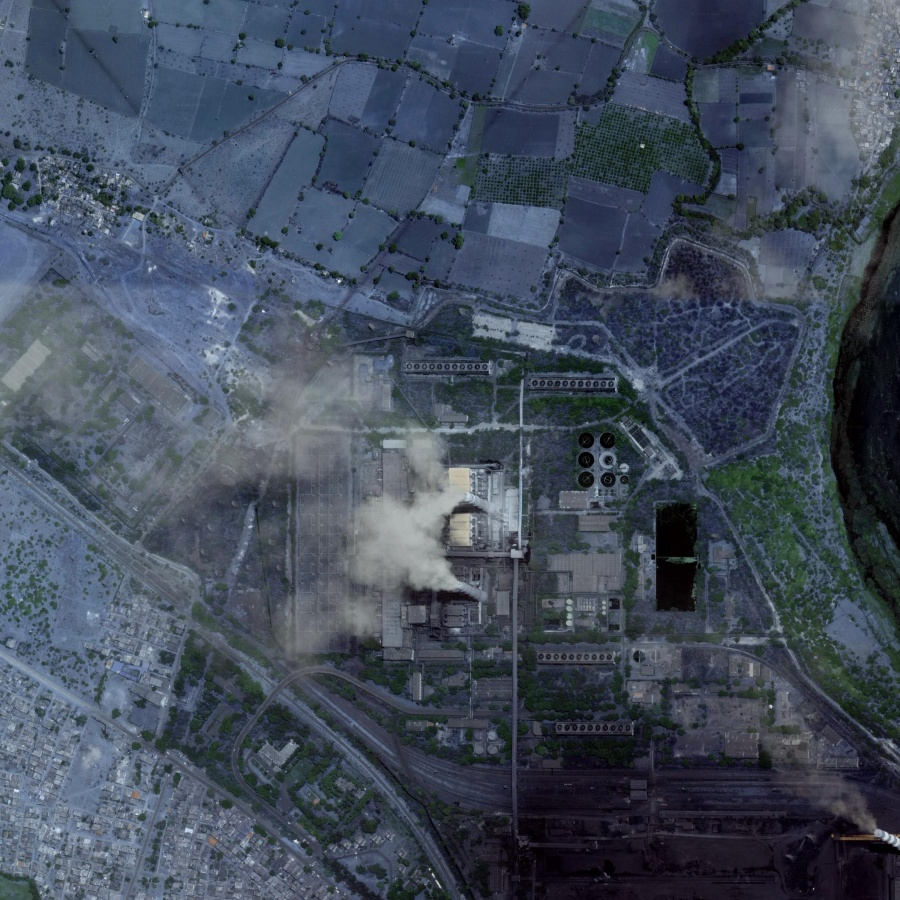PowerPlant: (298, 352, 570, 672)
